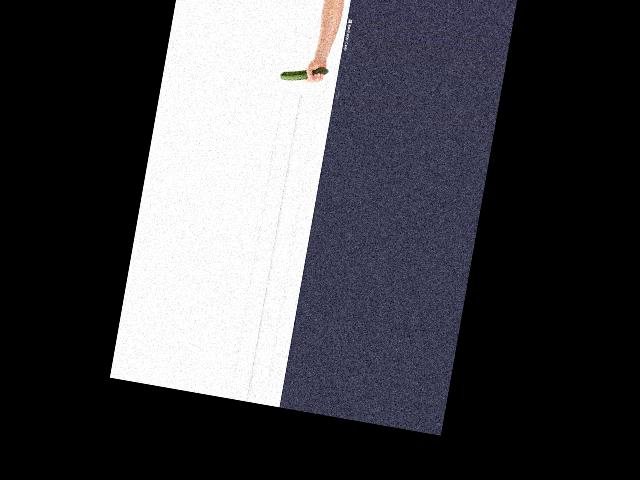cucumber: (279, 61, 328, 87)
